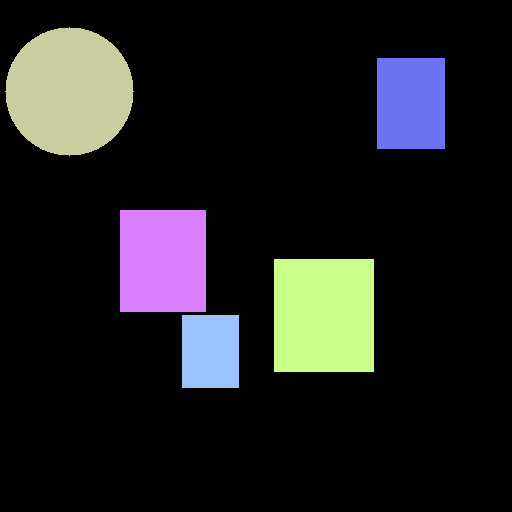circle: (5, 27, 133, 155)
rectangle: (274, 259, 373, 371), (120, 210, 205, 311), (377, 58, 444, 148), (182, 315, 238, 387)
